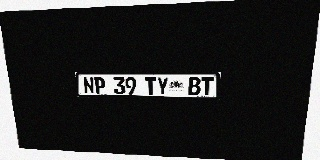plate: (75, 72, 220, 99)
